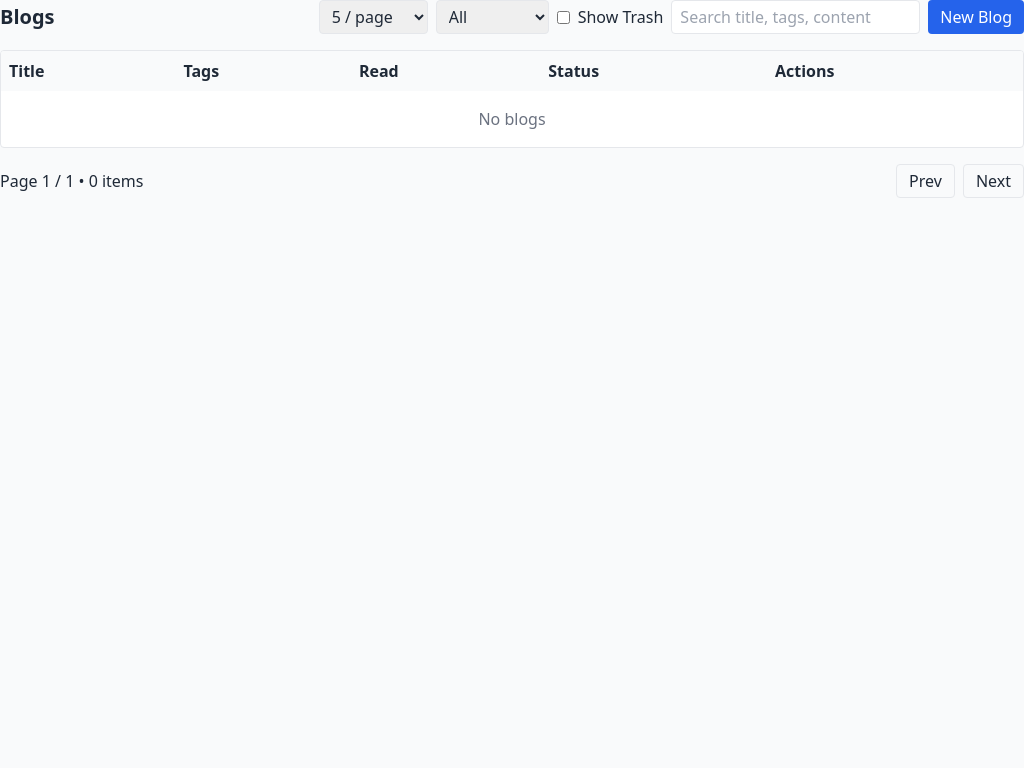
Test: Blog preview › renders markdown preview as HTML
Note: open new blog modal
Click the button "New Blog" at point(976, 17), box [928,0,1023,34]
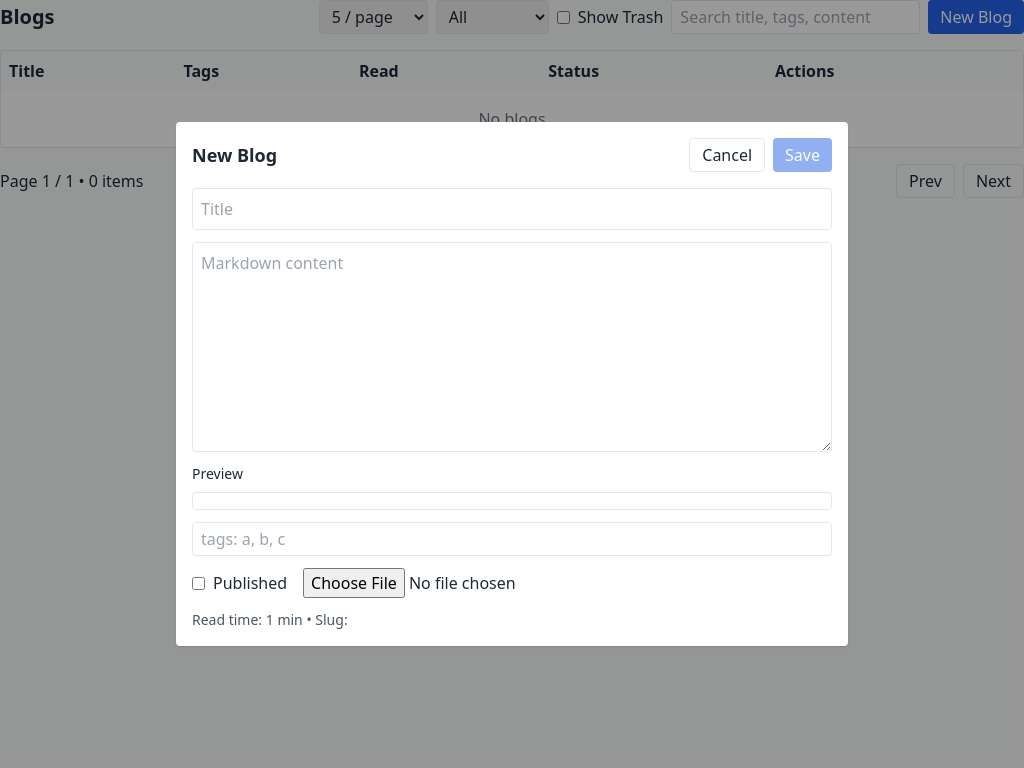
Type "# Heading" into the text box with placeholder "Markdown content" at point(512, 347), box [192,242,832,452]
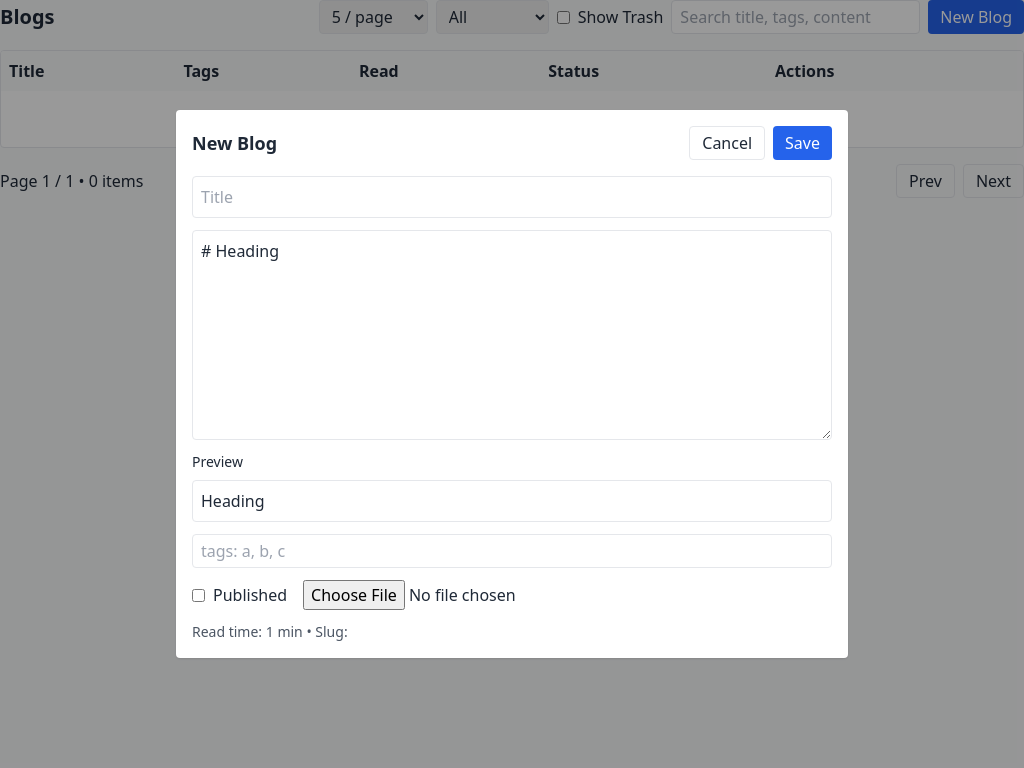
Check: the heading "Heading" is shown, box [201,490,265,512]
